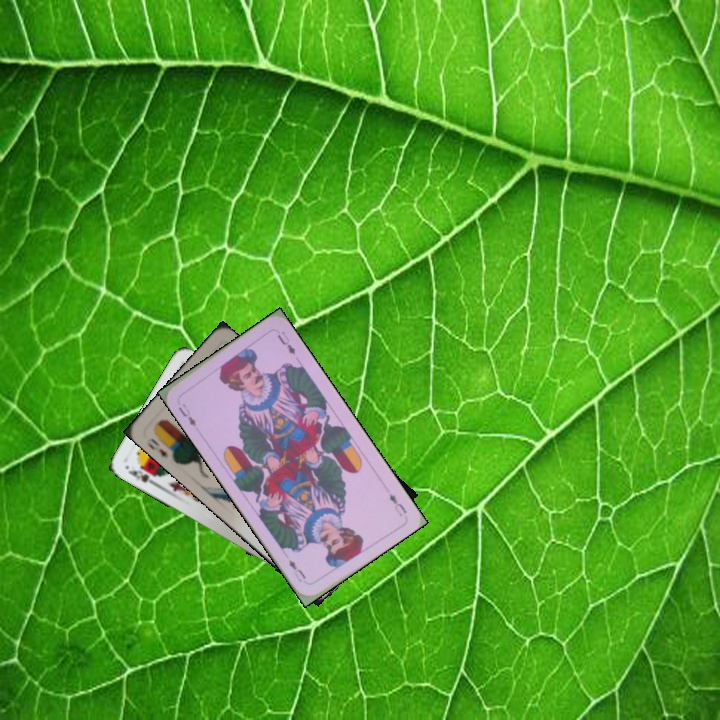EO: (145, 432, 177, 461)
EU: (174, 399, 199, 429), (385, 490, 409, 519)
SK: (124, 463, 160, 489)
